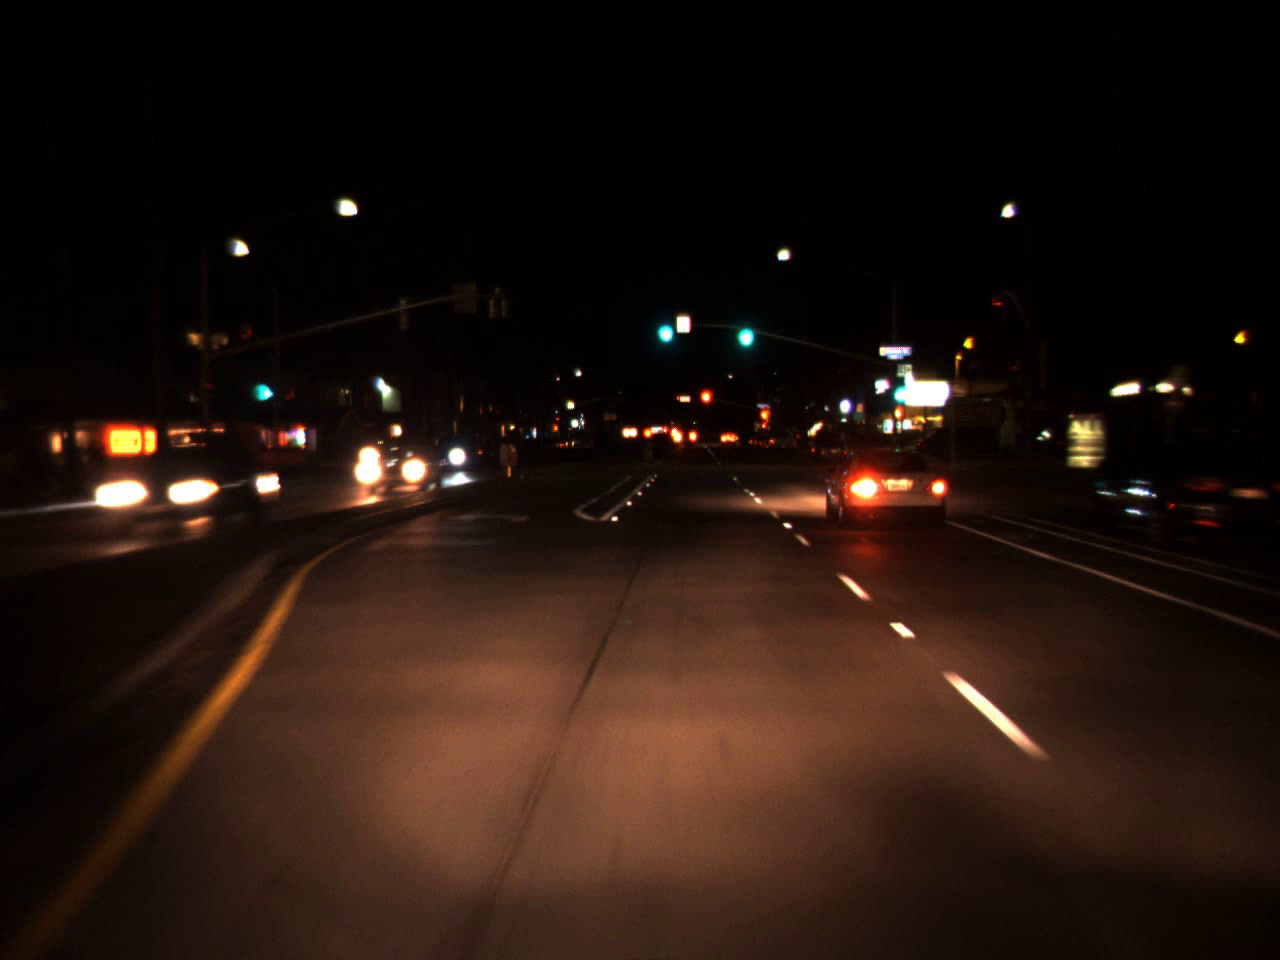go: (732, 306, 757, 354), (652, 303, 675, 348), (252, 365, 271, 407), (890, 367, 909, 409)
stop: (698, 387, 714, 419), (758, 407, 771, 439)
